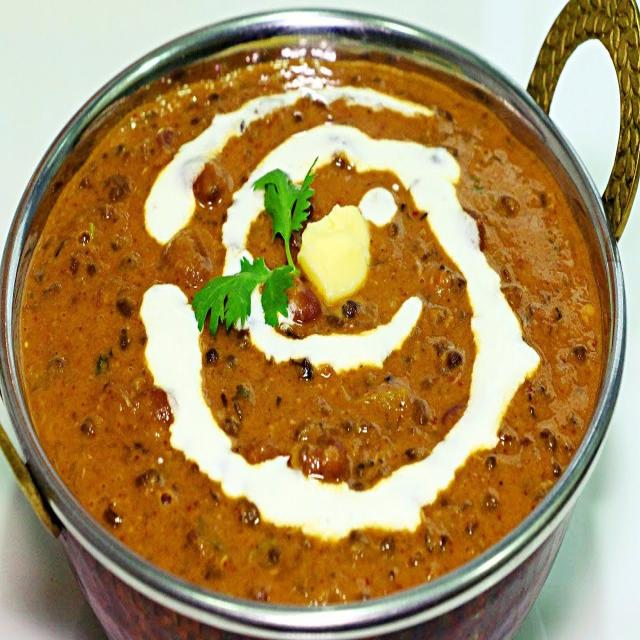dal_makhani: (21, 26, 608, 603)
